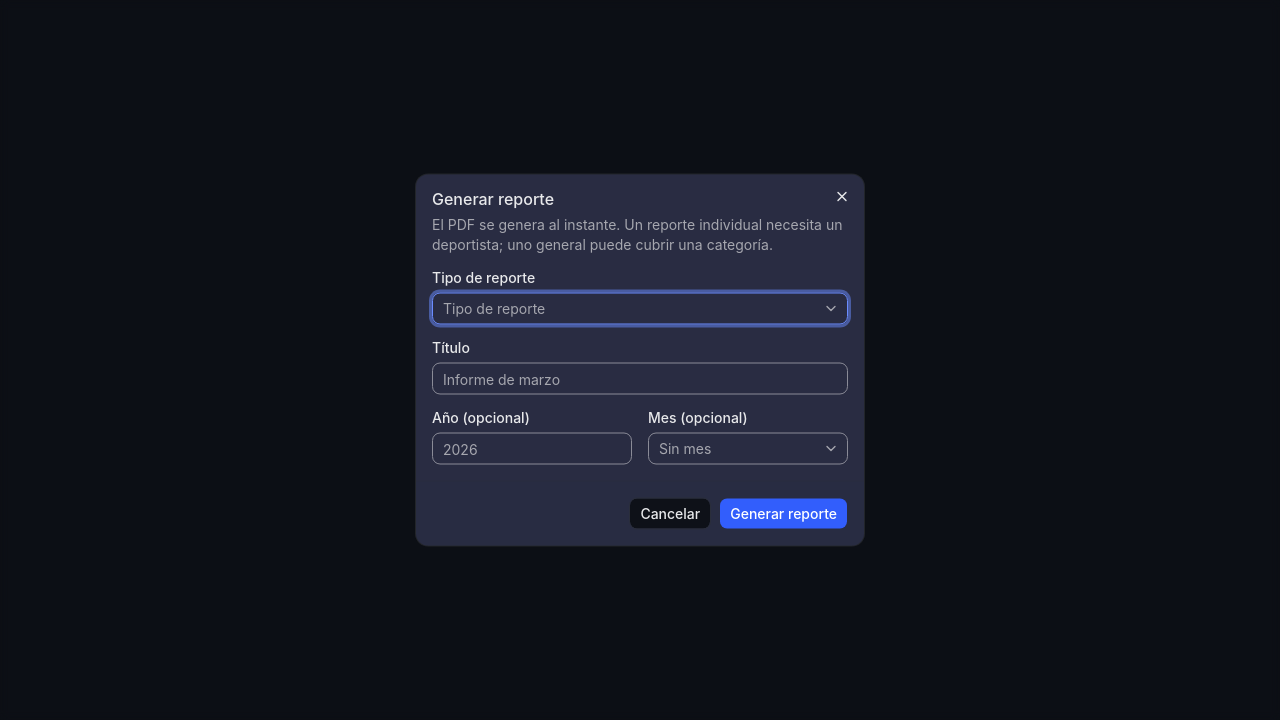
Test: ReportFormDialog — generación síncrona (C5, C9, C11) › 201 FAILED: el dialog permanece con el errorMessage del servidor en un banner role=alert
Click the dropdown with test id "report-type-select".
click(494, 308)  # box left=432, top=292, right=848, bottom=324
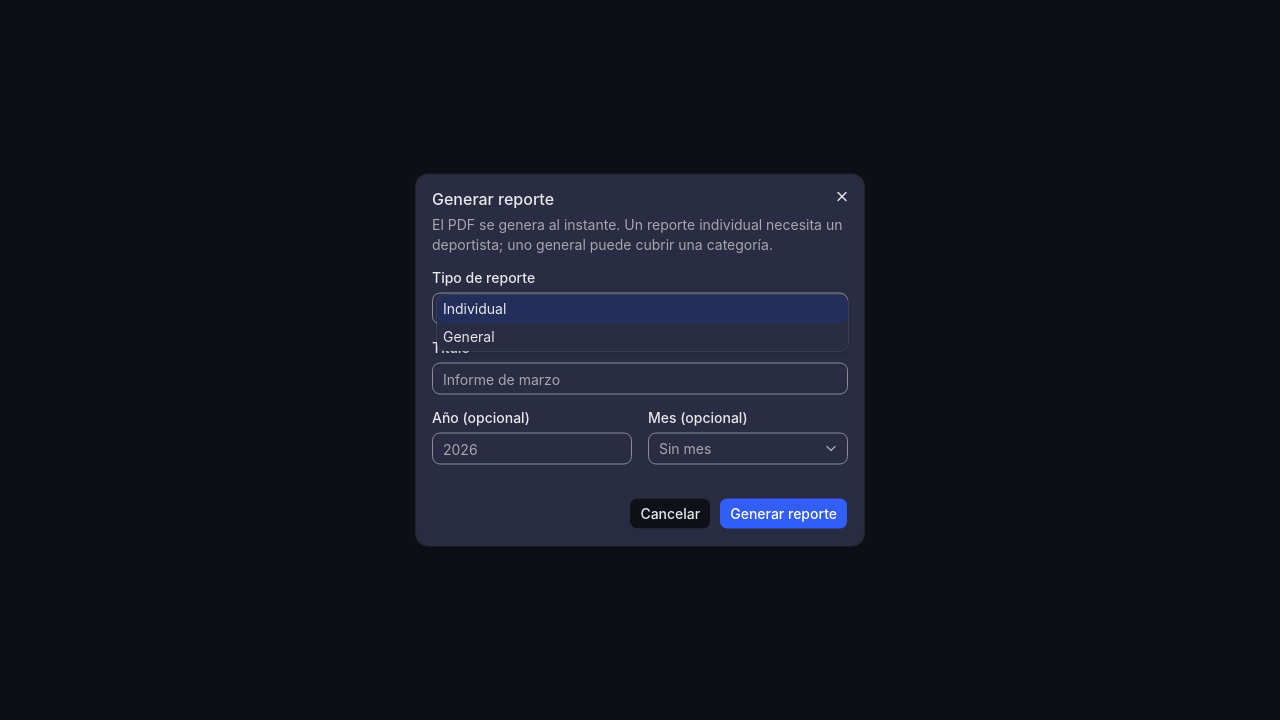
Click the option "Individual".
click(475, 308)  # box left=437, top=294, right=848, bottom=322
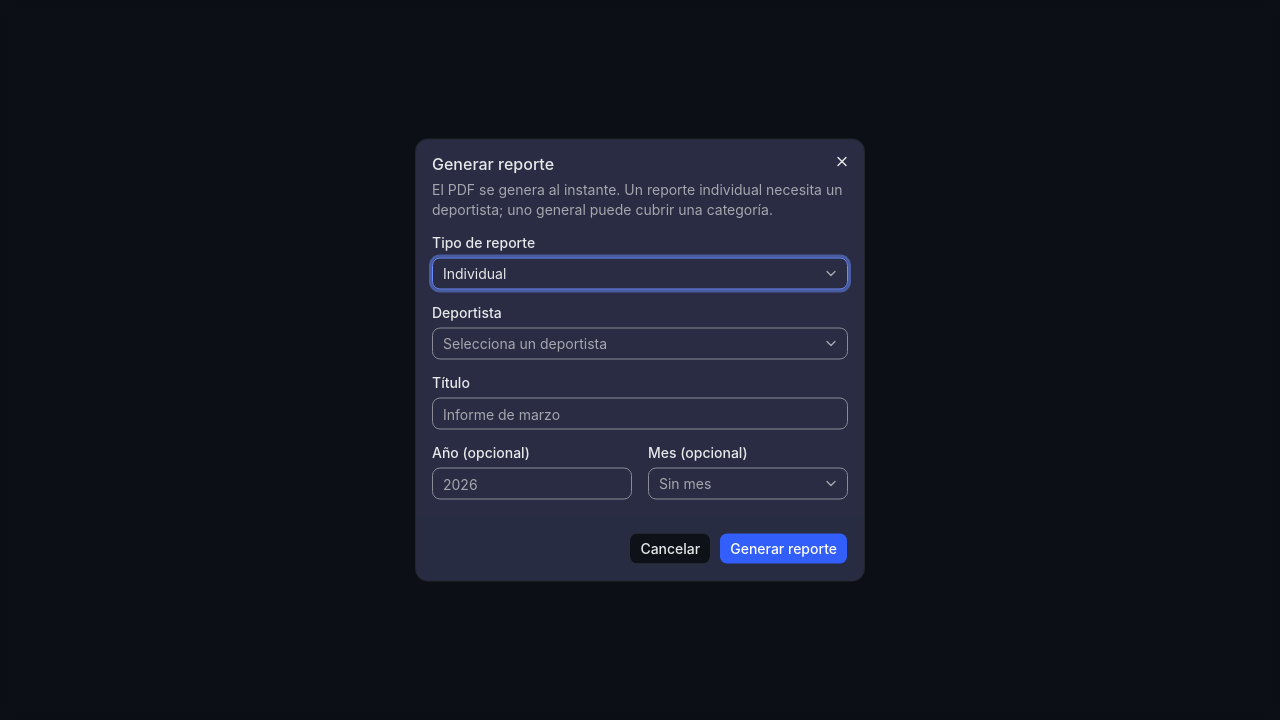
Result: the dropdown with test id "report-athlete-select" is enabled
Click the dropdown with test id "report-athlete-select".
click(525, 343)  # box left=432, top=328, right=848, bottom=360
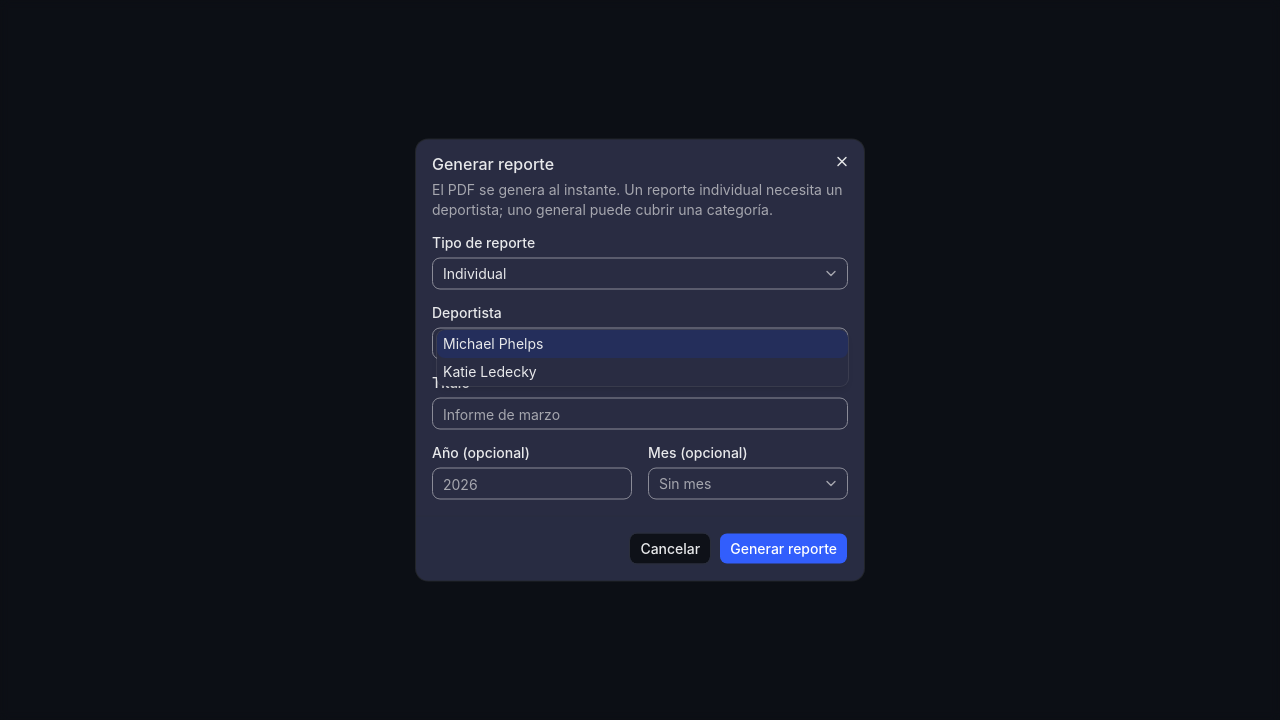
Click the option "Michael Phelps".
click(493, 343)  # box left=437, top=330, right=848, bottom=358
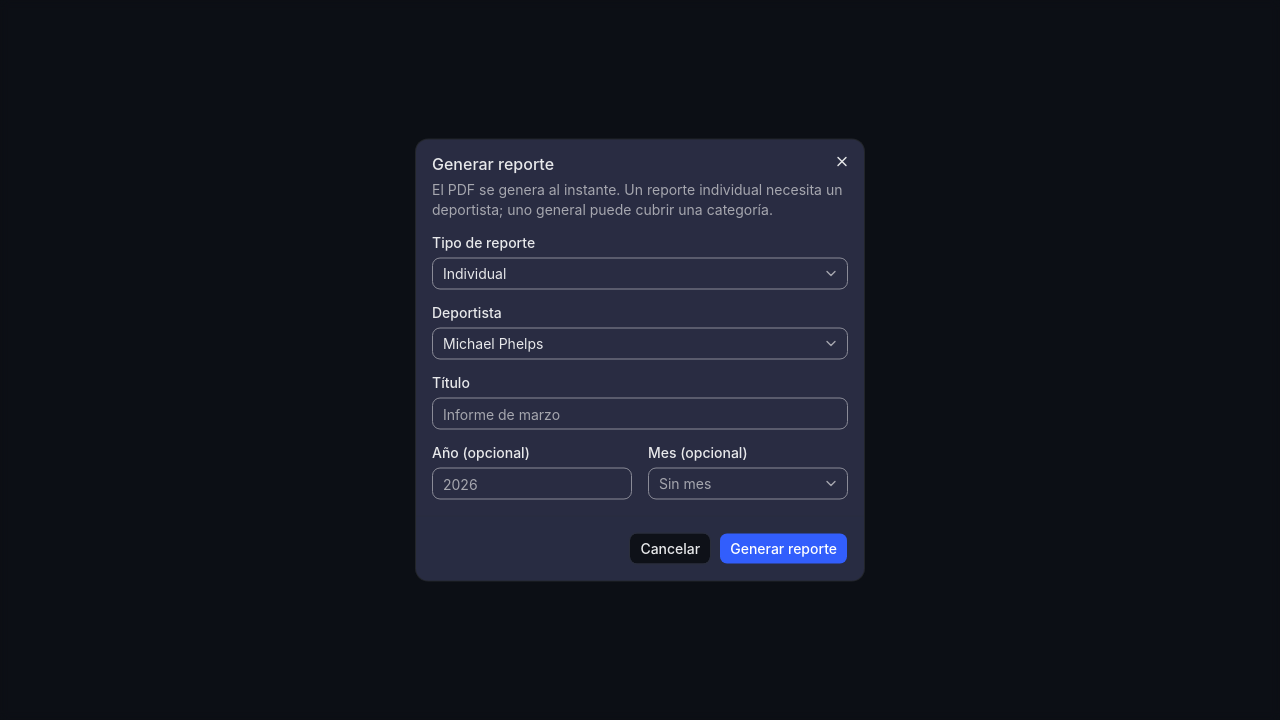
Type "Informe" into the field with test id "report-title-input".
click(640, 414); type("Informe")  # box left=432, top=398, right=848, bottom=430
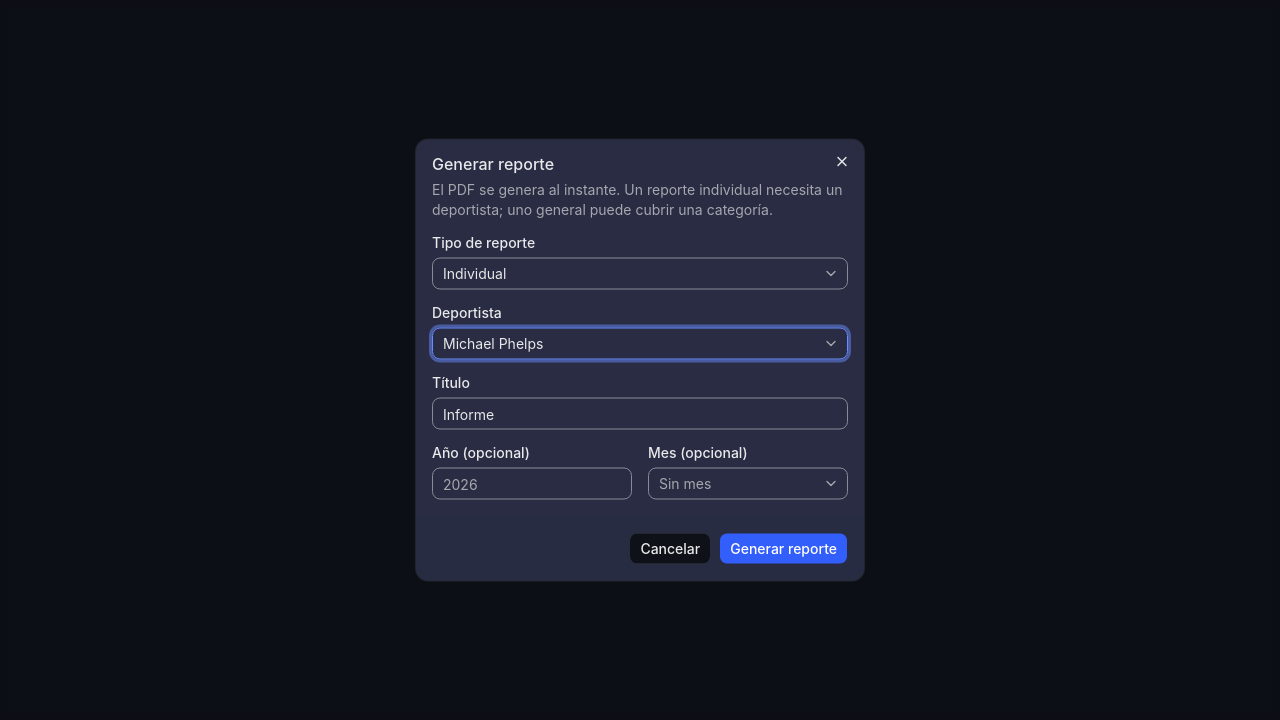
Click the button with test id "report-submit".
click(784, 548)  # box left=719, top=532, right=848, bottom=564
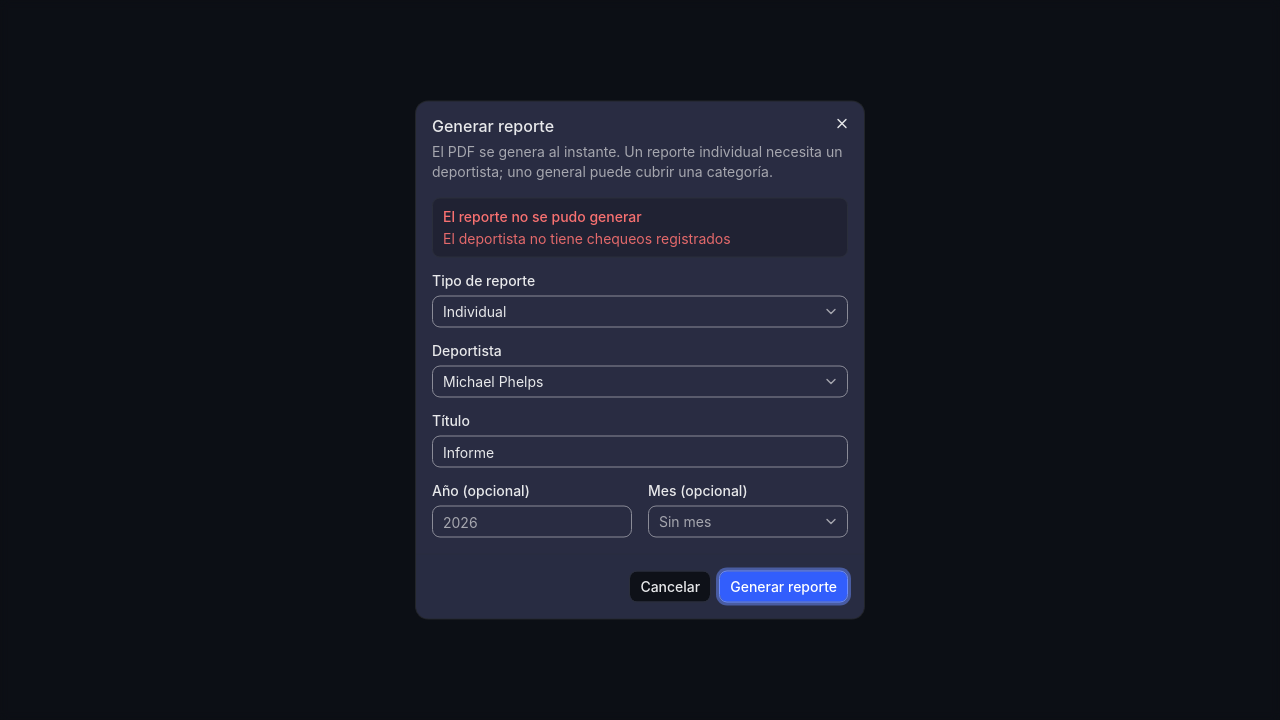
Expected: the dialog with test id "report-form" is shown, left=416, top=102, right=864, bottom=618
Result: the text "El deportista no tiene chequeos registrados" is shown at left=443, top=230, right=731, bottom=246
